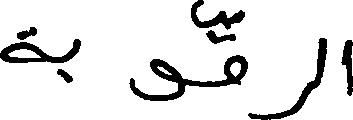X: (132, 54, 182, 105), (0, 22, 45, 67), (225, 5, 246, 90), (275, 76, 312, 119), (314, 33, 326, 93), (68, 34, 79, 87), (344, 35, 352, 100)
